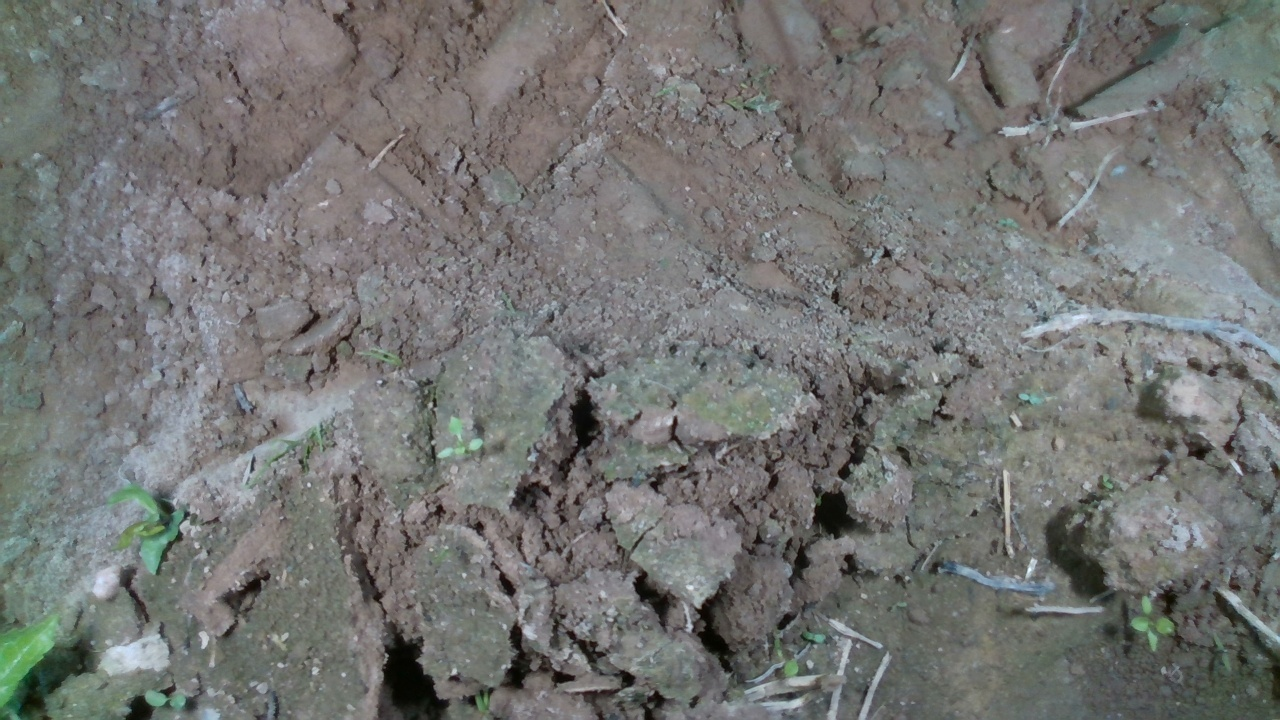weed: (1126, 592, 1176, 655), (143, 688, 188, 711), (1211, 630, 1233, 676), (801, 630, 827, 645)
